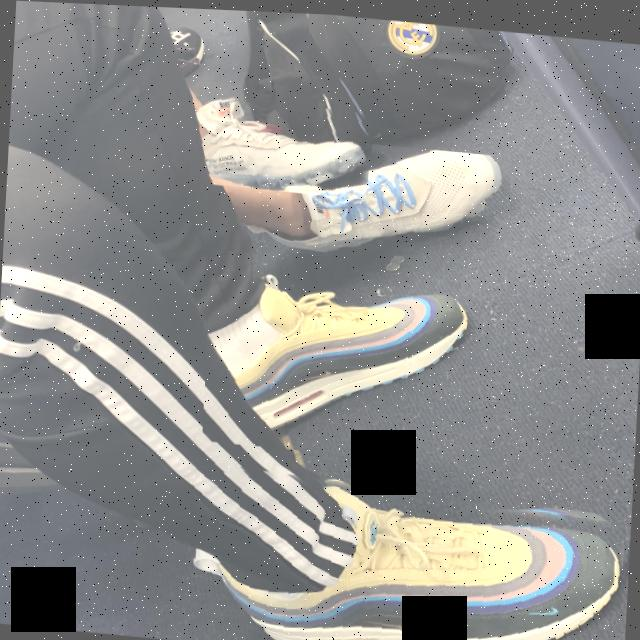shoe: (186, 457, 632, 640), (202, 257, 484, 463), (204, 127, 512, 275), (188, 87, 376, 197)
